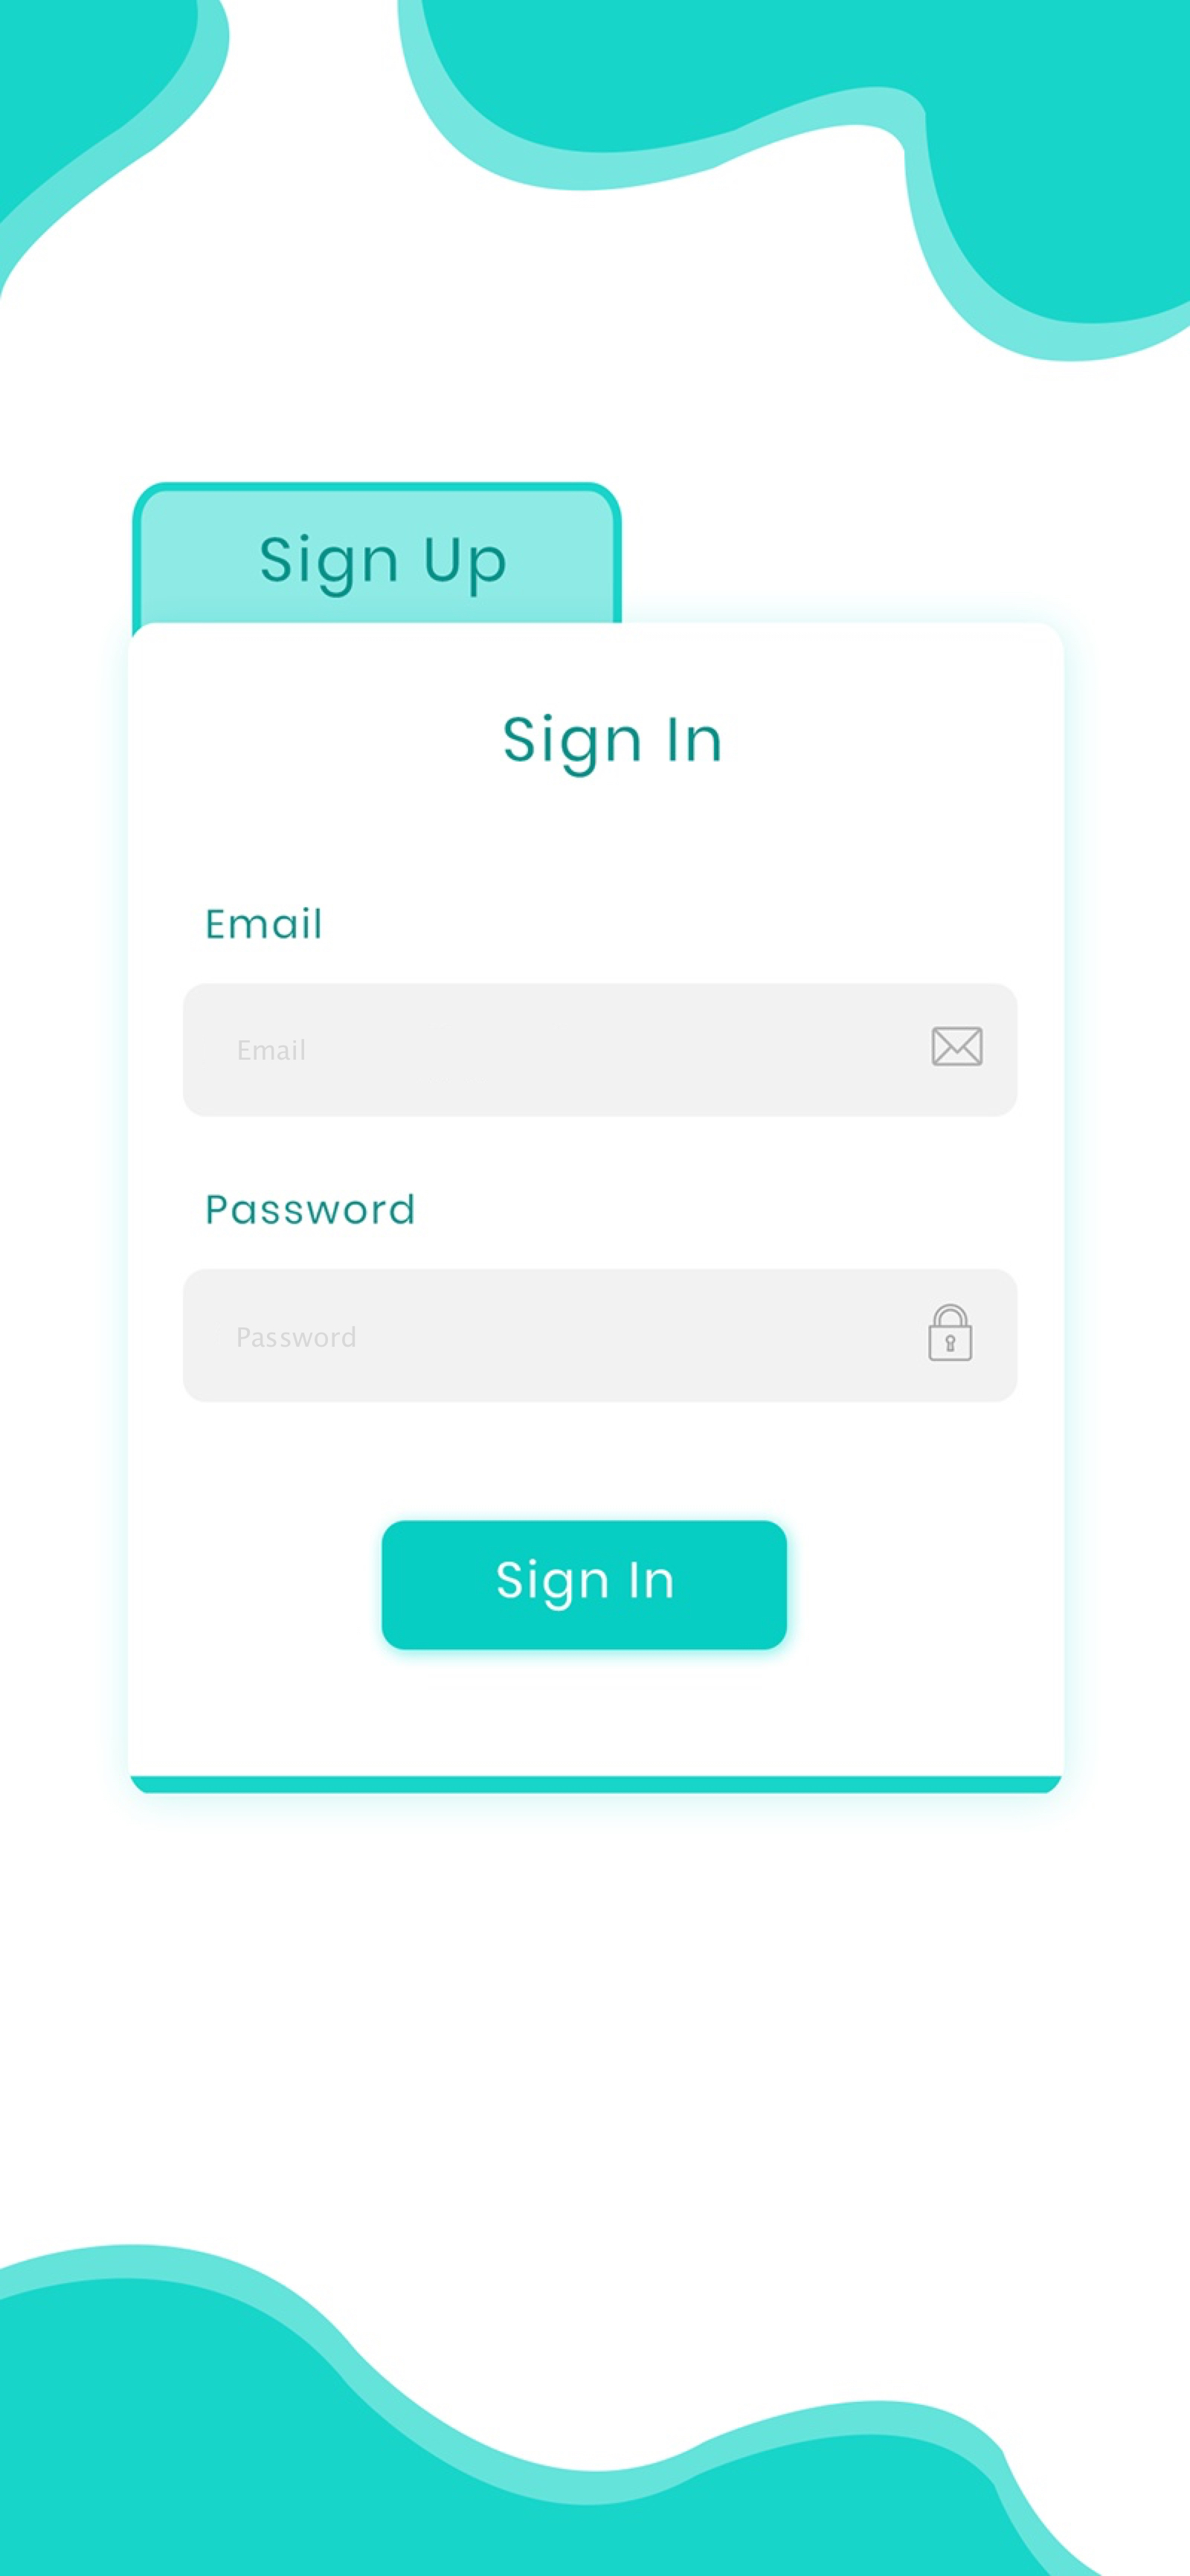EditText: (182, 1268, 1019, 1405), (182, 982, 1017, 1119)
Icon: (927, 1303, 975, 1364), (930, 1025, 985, 1068)
Text: (503, 713, 722, 779), (207, 1193, 414, 1226), (207, 907, 322, 941), (238, 1326, 355, 1349), (238, 1040, 306, 1061)
TextButton: (131, 481, 623, 624), (381, 1520, 789, 1653)
